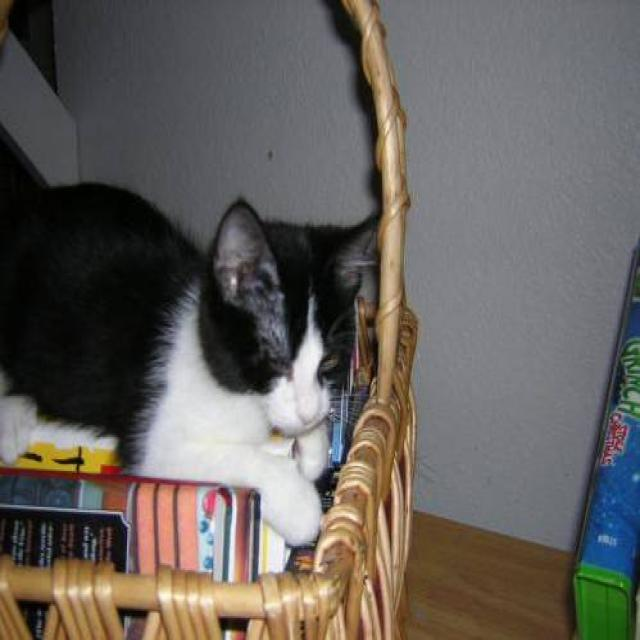cat: (0, 152, 380, 548)
